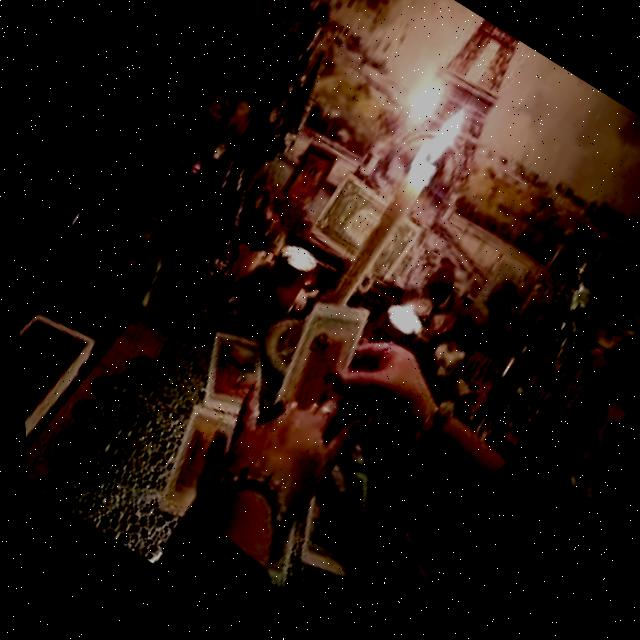Fire: (408, 98, 477, 179)
